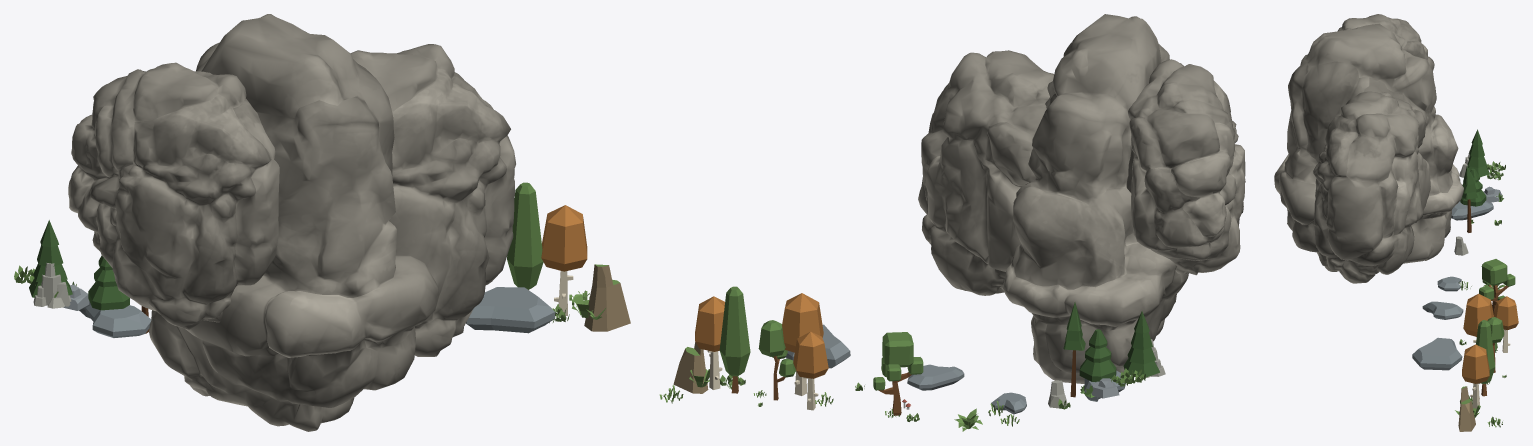
Rendered from cell_x1_z2_render.gltf.
3 renders of one model, left to right at view 1: azimuth 30°, elevation 25°; view 2: azimuth 150°, elevation 25°; view 3: azimuth 270°, elevation 25°, orthographic. The views are drawn at different scales.
Visible parts, largest first — view 1: cell_x1_z2; view 2: cell_x1_z2; view 3: cell_x1_z2.
Boxes of the visible parts, box(x1,y1,x2,y2) form: cell_x1_z2: box(14, 14, 630, 431); cell_x1_z2: box(659, 14, 1245, 431); cell_x1_z2: box(1274, 14, 1518, 431).
Bounding box in the file's own units: 42.74 × 31.11 × 25.12.
Materials: 14 (1 with a texture image).
